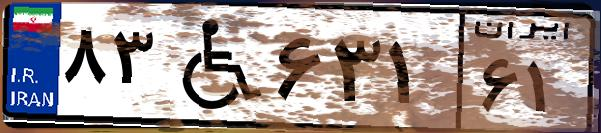1: (385, 28, 445, 110), (525, 38, 570, 115)
3: (330, 28, 385, 110), (110, 28, 158, 98)
6: (270, 28, 330, 110), (475, 38, 525, 113)
8: (57, 26, 110, 100)
ژ (معلولین و جانبازان): (158, 12, 270, 120)
